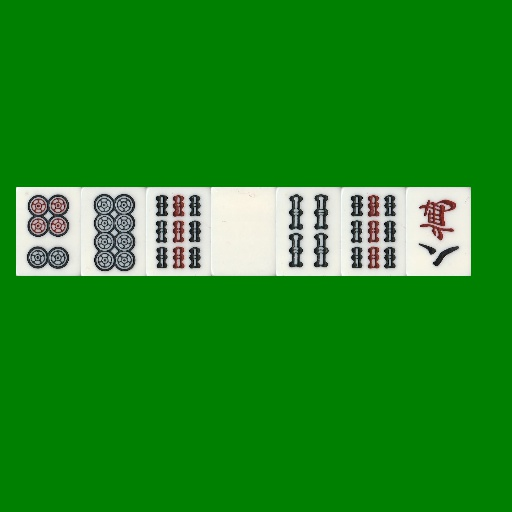4s: (276, 187, 341, 276)
6p: (16, 187, 81, 276)
8m: (406, 187, 471, 276)
8p: (81, 187, 146, 276)
9s: (146, 187, 211, 276), (341, 187, 406, 276)
white: (211, 187, 276, 276)
